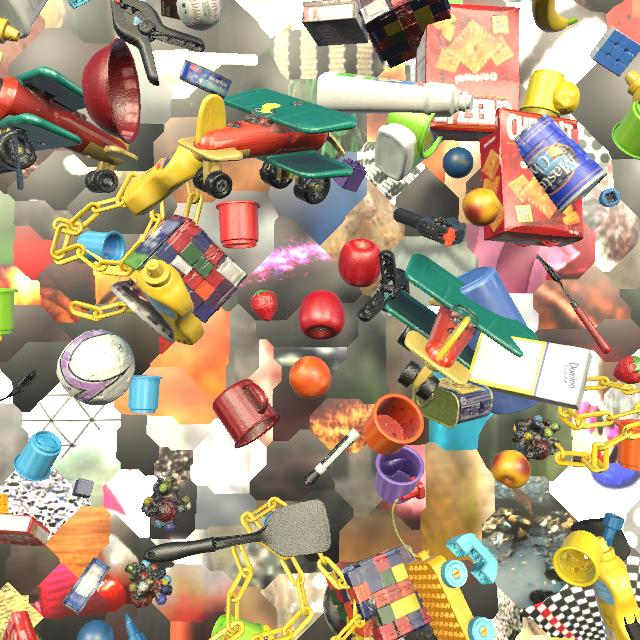ycb_002_master_chef_can: (514, 113, 607, 214)
ycb_003_cracker_box: (480, 107, 584, 247), (416, 4, 520, 142)
ycb_004_sugar_box: (469, 332, 592, 410)
ycb_006_mustard_bottle: (123, 139, 203, 216), (136, 259, 205, 345), (592, 536, 640, 640), (0, 17, 20, 44), (625, 70, 640, 105)
ycb_007_tuna_fish_can: (62, 557, 111, 615), (179, 60, 232, 99)
ycb_008_pudding_box: (302, 0, 368, 46), (161, 0, 181, 20)
ycb_009_gelatin_box: (0, 513, 50, 546), (2, 611, 37, 640)
ycb_010_potted_meat_can: (412, 377, 493, 428)
ycb_011_banana: (532, 0, 578, 33)
ycb_012_strawberry: (250, 290, 278, 321), (613, 356, 640, 384)
ycb_013_apple: (298, 290, 345, 340), (338, 238, 381, 288)
ycb_014_lemon: (552, 81, 580, 115)
ycb_015_peach: (491, 450, 531, 488), (462, 188, 499, 227)
ycb_017_orange: (289, 356, 331, 399)
